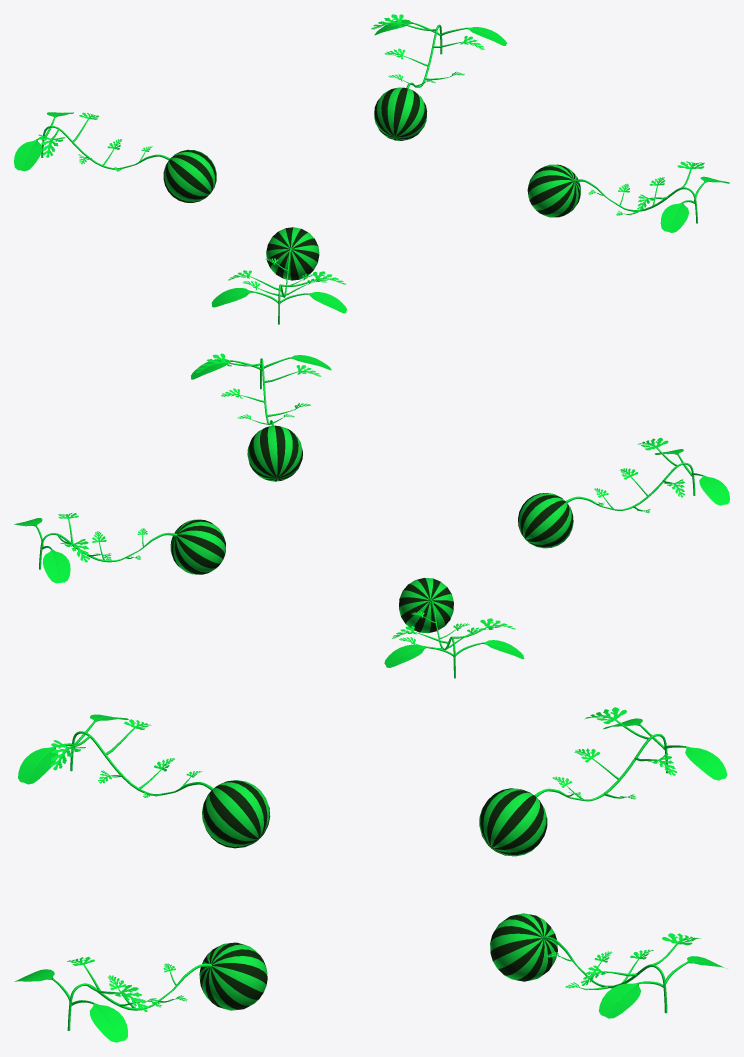
The model's file is Watermelon_lvl3.fbx.
3 views of the same model, one above another, from view 1: azimuth 30°, elevation 25°; view 2: azimuth 150°, elevation 25°; view 3: azimuth 270°, elevation 25° (orthographic). The views are drawn at different scales.
Parts seen in each view (by area): view 1: Watermelon_lvl3_LOD0; view 2: Watermelon_lvl3_LOD0; view 3: Watermelon_lvl3_LOD0.
Part boxes in pixels (x1,y1,x2,y2): Watermelon_lvl3_LOD0: (14, 14, 729, 324); Watermelon_lvl3_LOD0: (14, 353, 729, 678); Watermelon_lvl3_LOD0: (14, 707, 727, 1042).
Size of what is drawn, in the model's own units: 96.76 by 103 by 12.71.
